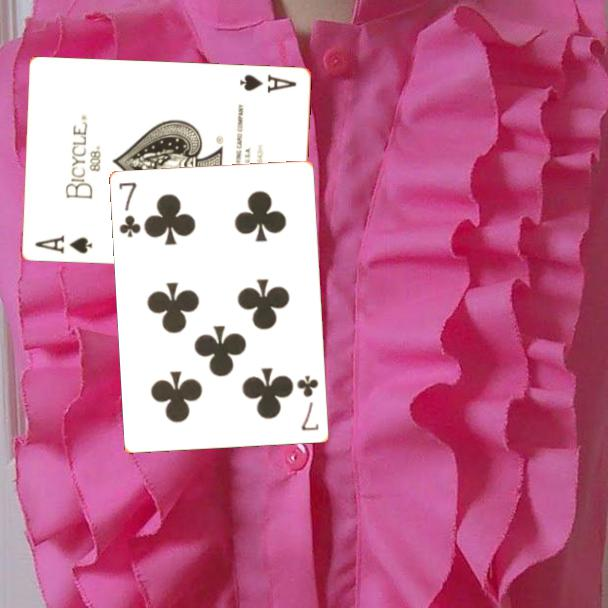c07: (294, 372, 322, 434), (116, 179, 144, 240)
s01: (31, 232, 95, 257), (236, 71, 299, 96)
